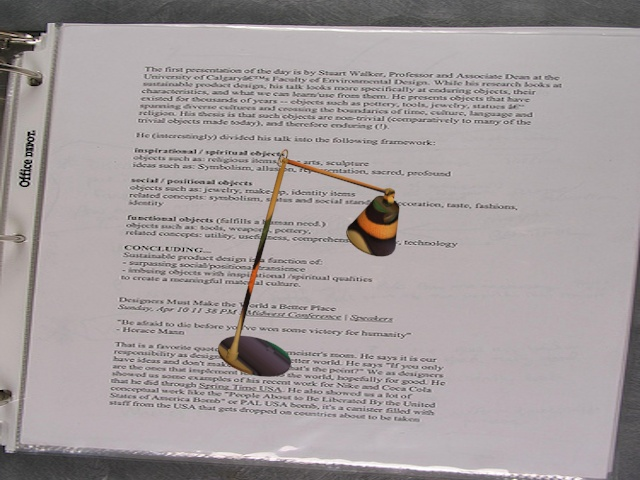desk_lamp: (208, 144, 401, 385)
